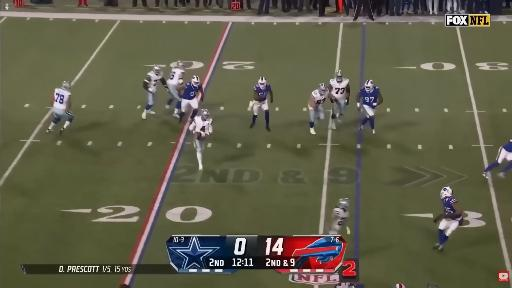Helmet: (440, 186, 453, 199), (338, 200, 350, 210), (365, 78, 374, 91), (152, 66, 161, 78), (318, 84, 328, 94), (259, 78, 268, 89), (192, 76, 200, 87), (335, 72, 343, 82), (202, 109, 209, 120), (394, 283, 407, 287), (63, 83, 70, 90), (178, 62, 185, 69)
Jersey: (190, 116, 212, 136), (330, 79, 349, 100), (360, 87, 379, 108), (54, 88, 70, 110), (496, 140, 511, 163), (183, 83, 201, 100), (168, 68, 185, 85), (333, 207, 349, 225), (254, 84, 270, 101), (147, 71, 162, 89), (442, 197, 457, 213), (312, 90, 325, 105), (502, 141, 511, 152)
Player: (434, 187, 463, 251), (308, 84, 337, 134), (142, 65, 168, 119), (357, 80, 383, 133), (190, 109, 212, 170), (47, 82, 73, 133), (328, 71, 350, 129), (250, 77, 273, 131), (179, 76, 204, 122), (483, 140, 511, 178), (166, 61, 185, 108), (329, 199, 349, 234)
